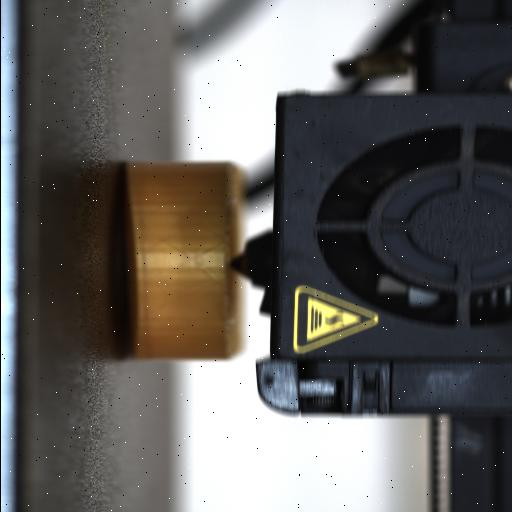warp: (122, 163, 148, 355)
